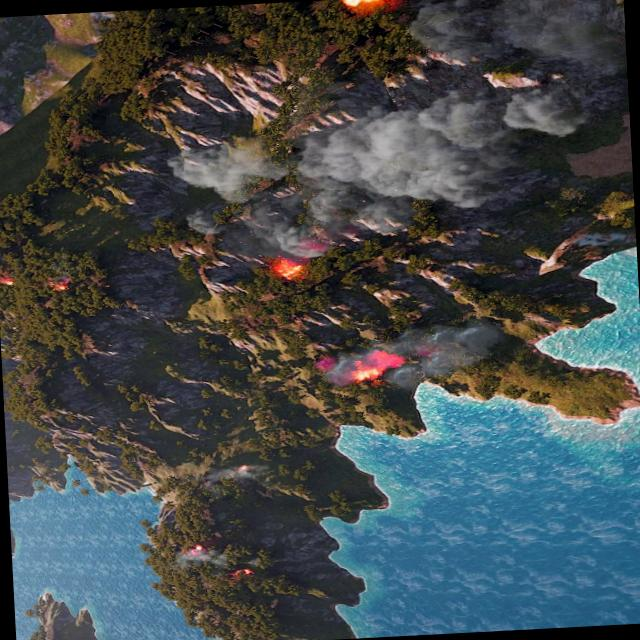fire: (347, 349, 402, 382), (270, 256, 306, 280), (44, 276, 72, 292), (340, 0, 390, 7), (230, 566, 253, 579), (0, 274, 18, 287), (188, 544, 206, 554), (234, 462, 254, 471)
smoke: (157, 0, 636, 262), (314, 321, 502, 388), (202, 459, 271, 485), (172, 546, 235, 568)
